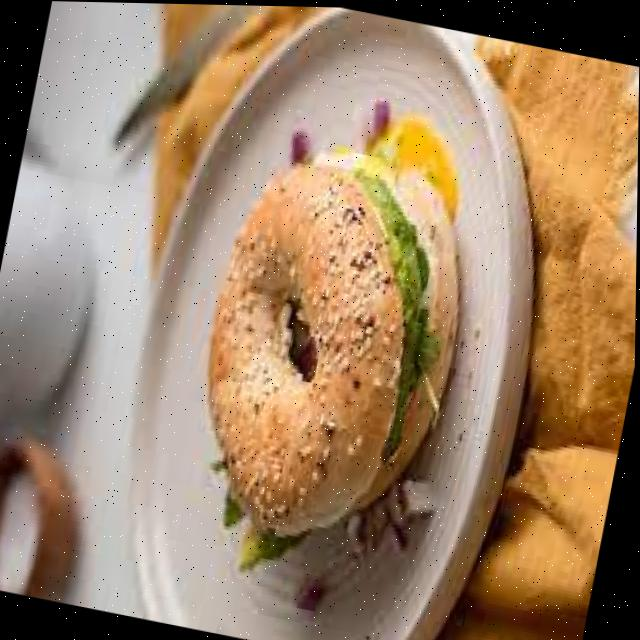Bagel: (209, 165, 428, 526)
